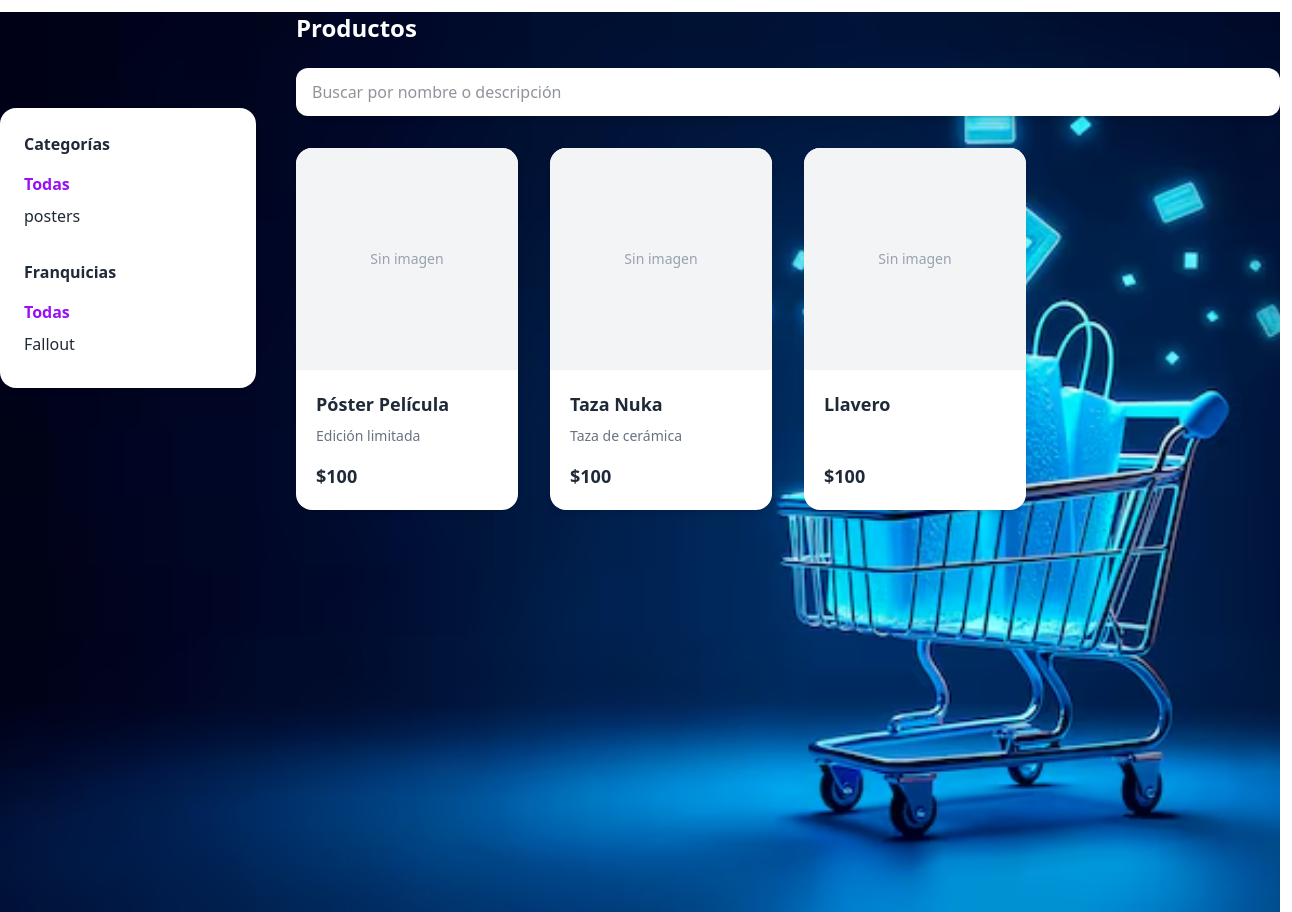
Test: BrowsePage › says when nothing matches, and the clear button shows everything again
The image size is (1292, 912).
Type "zzz" into the search field with placeholder "Buscar por nombre o descripción" at {"x": 788, "y": 92}, box [296, 68, 1280, 116]
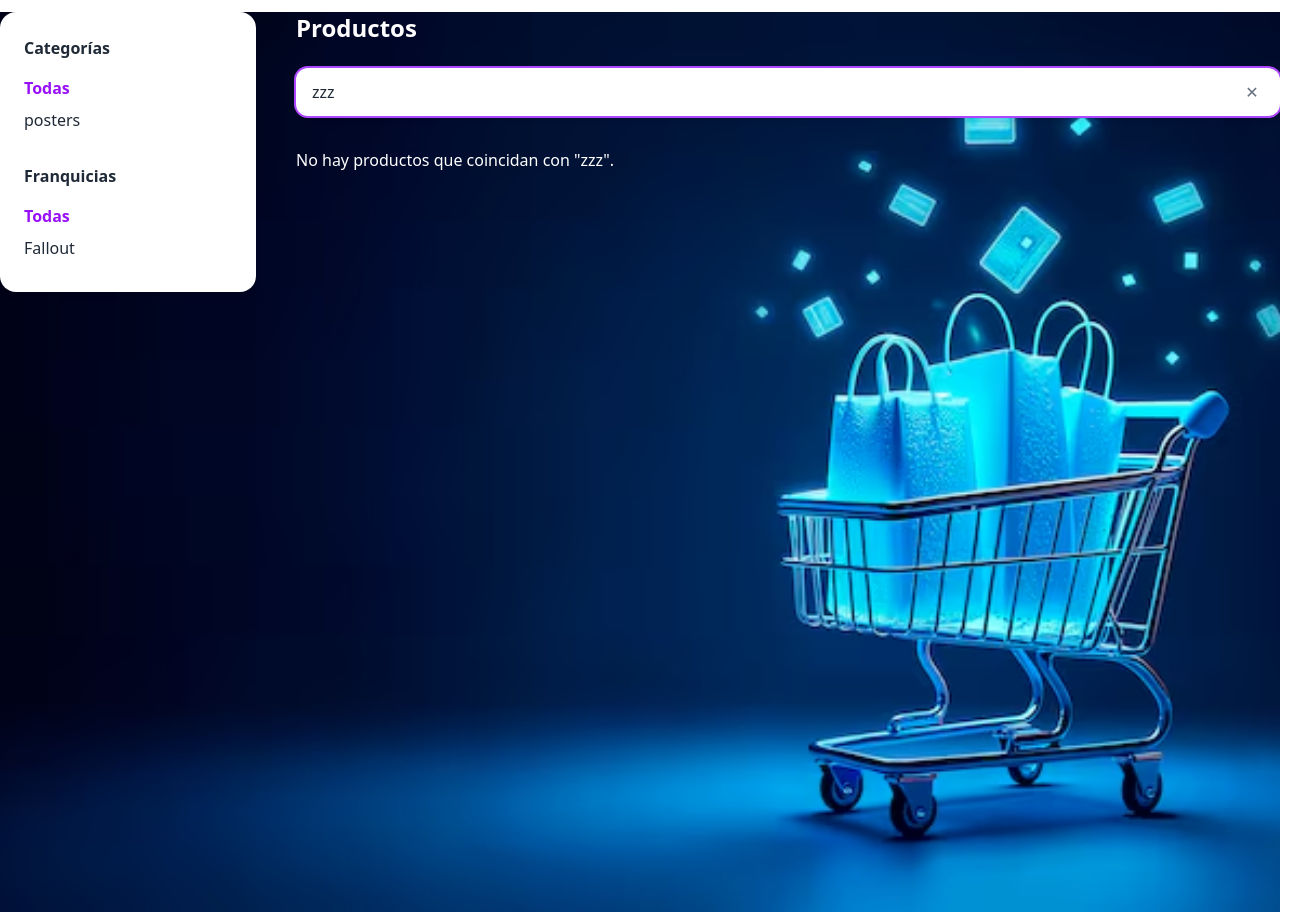
Expected: the text "No hay productos que coincidan con \"zzz\"." is shown, [296, 149, 614, 171]
Click the button named "Borrar búsqueda" at {"x": 1252, "y": 92}, box [1236, 76, 1268, 108]
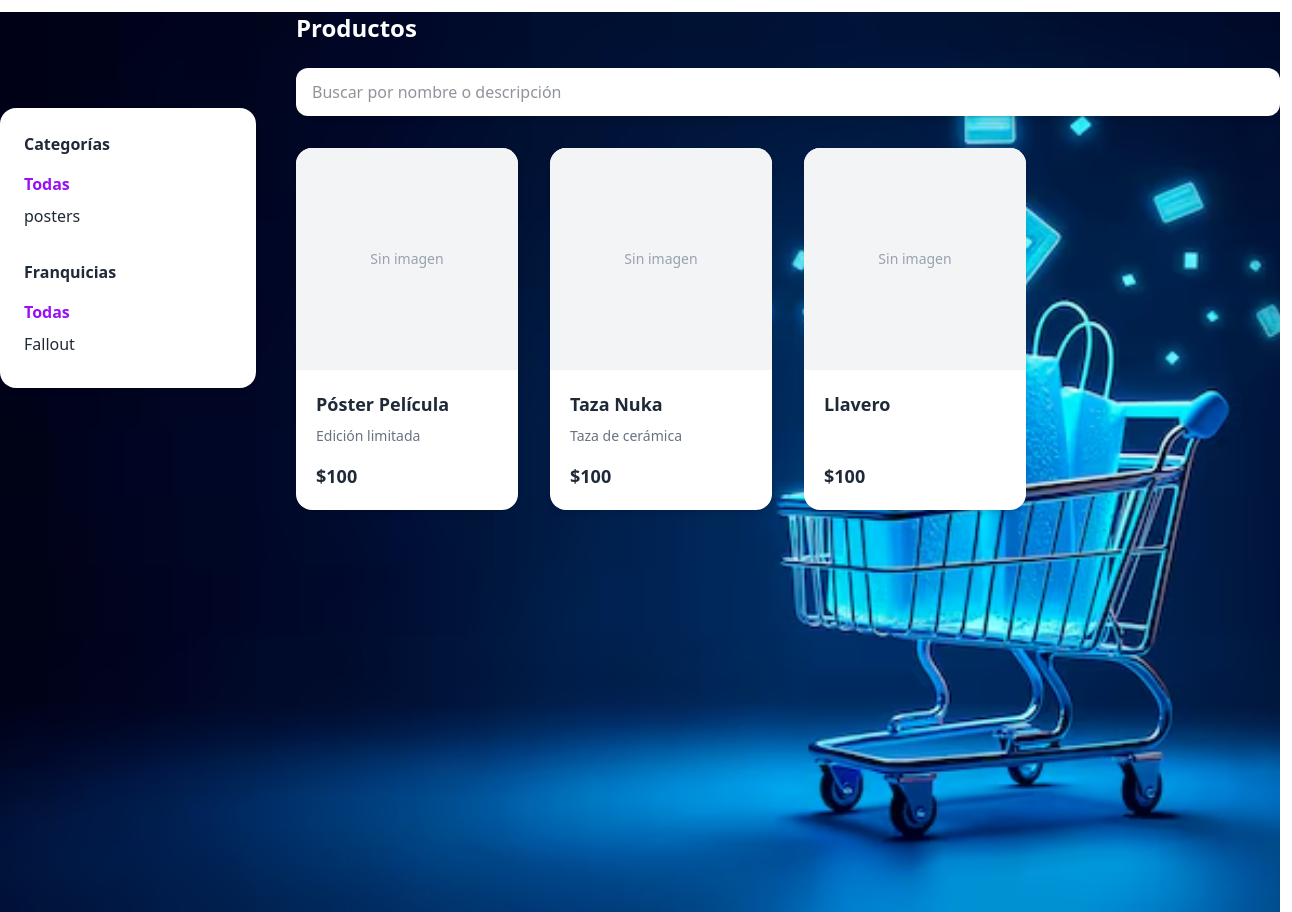
Expected: the heading "Llavero" is shown, [824, 392, 890, 416]
